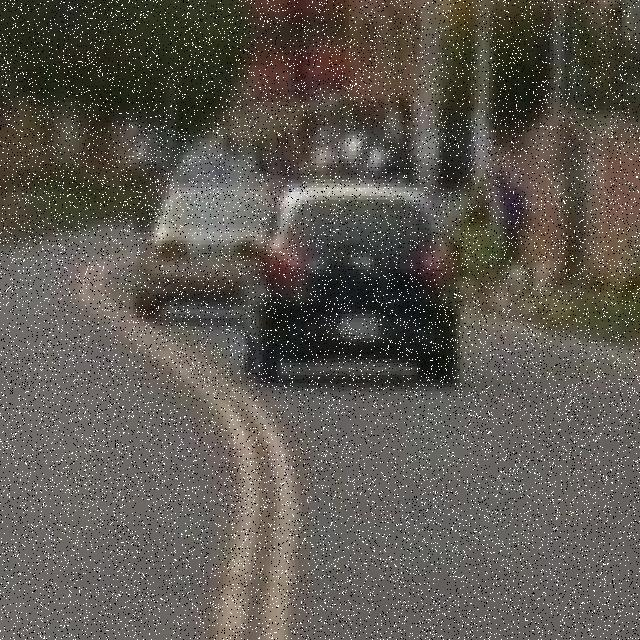cars: (288, 175, 463, 397), (140, 170, 267, 316)
